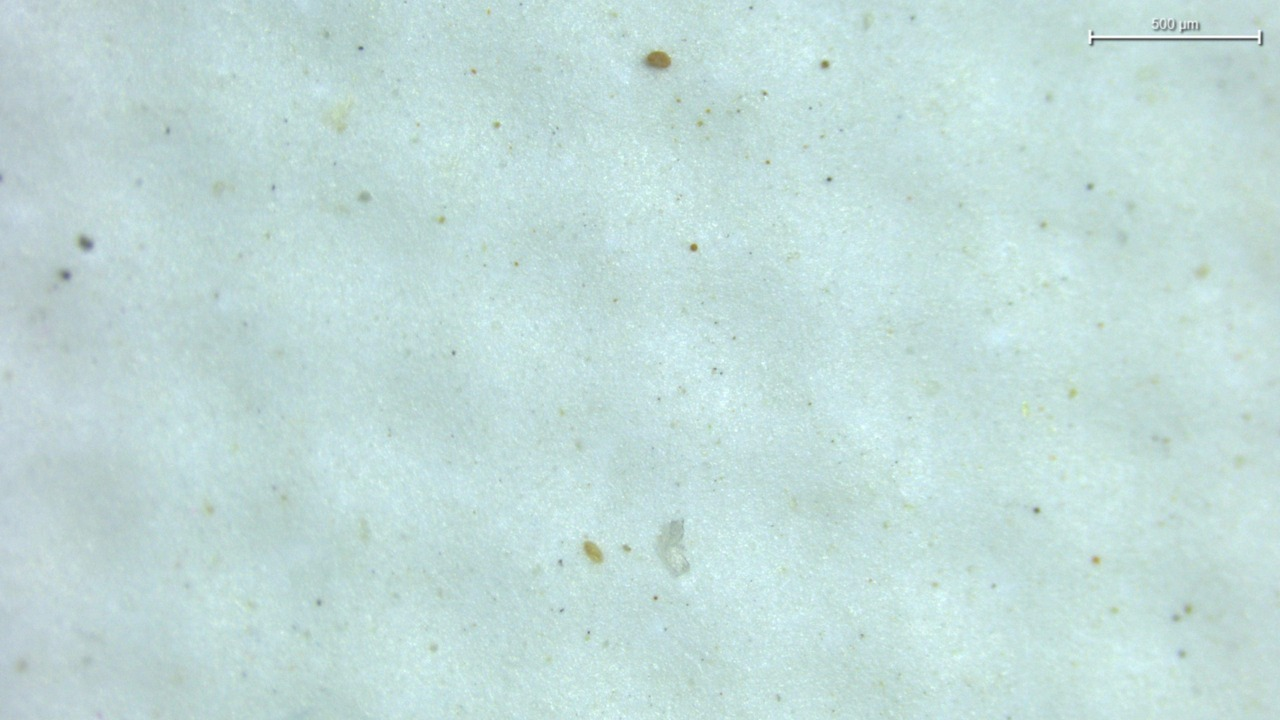microplastic_fragment: (656, 519, 690, 576)
